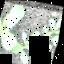Purslane: (0, 1, 64, 64)
